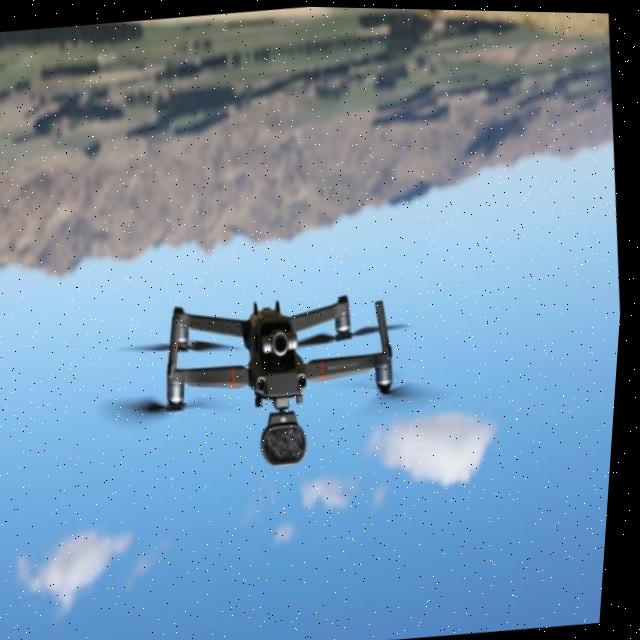drones: (82, 215, 505, 507)
